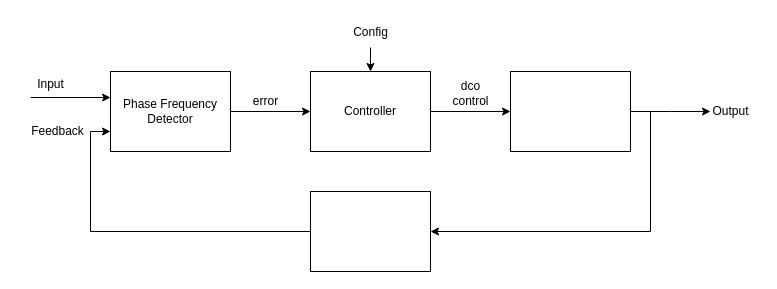
Some shapes in this 777 by 289 pixel diagram are drawn without their labels. The centre of each missing label's shape, as x and y in pixels:
Digitally Controlled Oscillator: the point at 570,111
Frequency Divider: the point at 370,231
